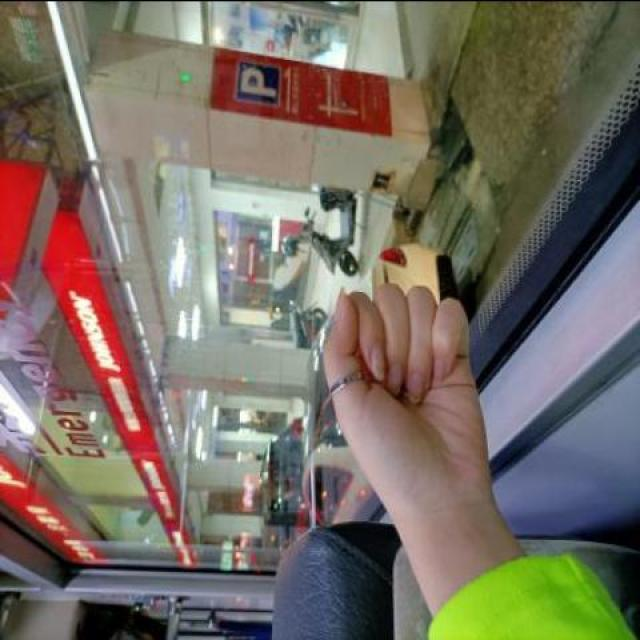Closed Hand: (299, 278, 493, 494)
